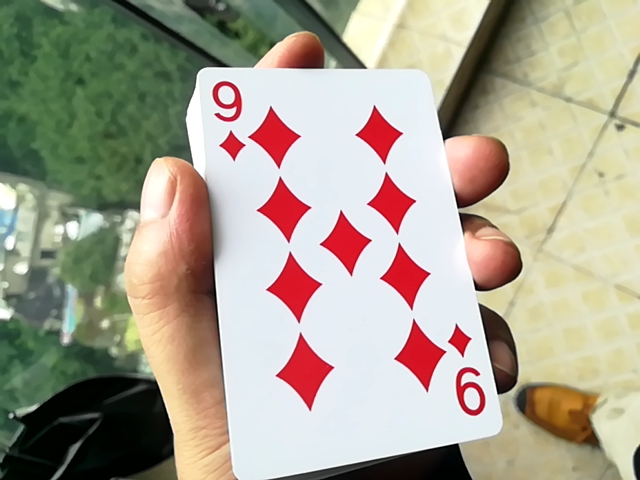fk 9: (171, 45, 496, 472)
